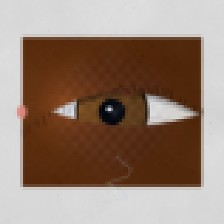foreign_body_visible: (112, 75, 143, 100)
